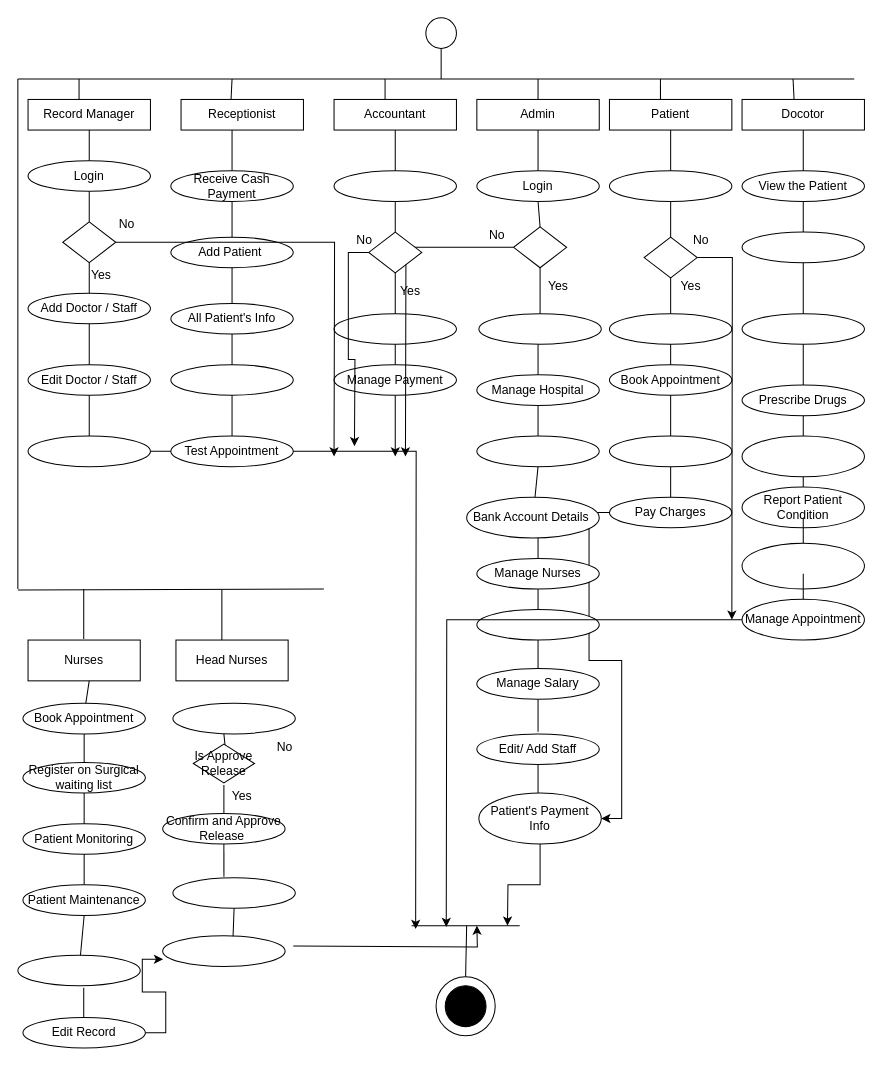
Some shapes in this 882 by 1066 pixel diagram are drawn without their labels. The centre of each missing label's shape, as x and y in pixels:
"Add Diagnoses" goes at (x=802, y=328).
"Apply for installment" goes at (x=670, y=451).
"Check Patient Status" goes at (x=233, y=718).
"Delete Doctor / Staff" goes at (x=88, y=451).
"Discharge the Patient" goes at (x=802, y=565).
"Doctor Appointment" goes at (x=231, y=379).
"Draw Salary" goes at (x=394, y=328).
"Edit/ Delete All Nurses" goes at (x=223, y=950).
"Manage all Nurses" goes at (x=233, y=892).
"Manage Medicine" goes at (x=537, y=624).
"Manage User" goes at (x=539, y=328).
"Prescribe Test" goes at (x=802, y=247).
"Register" goes at (x=670, y=185).
"Schedule Medical Procedure" goes at (x=802, y=456).
"Sign in" goes at (x=394, y=185).
"Update/Delete Profile" goes at (x=537, y=451).
"View Medical Report" goes at (x=670, y=328).
"View Record" goes at (x=78, y=970).
